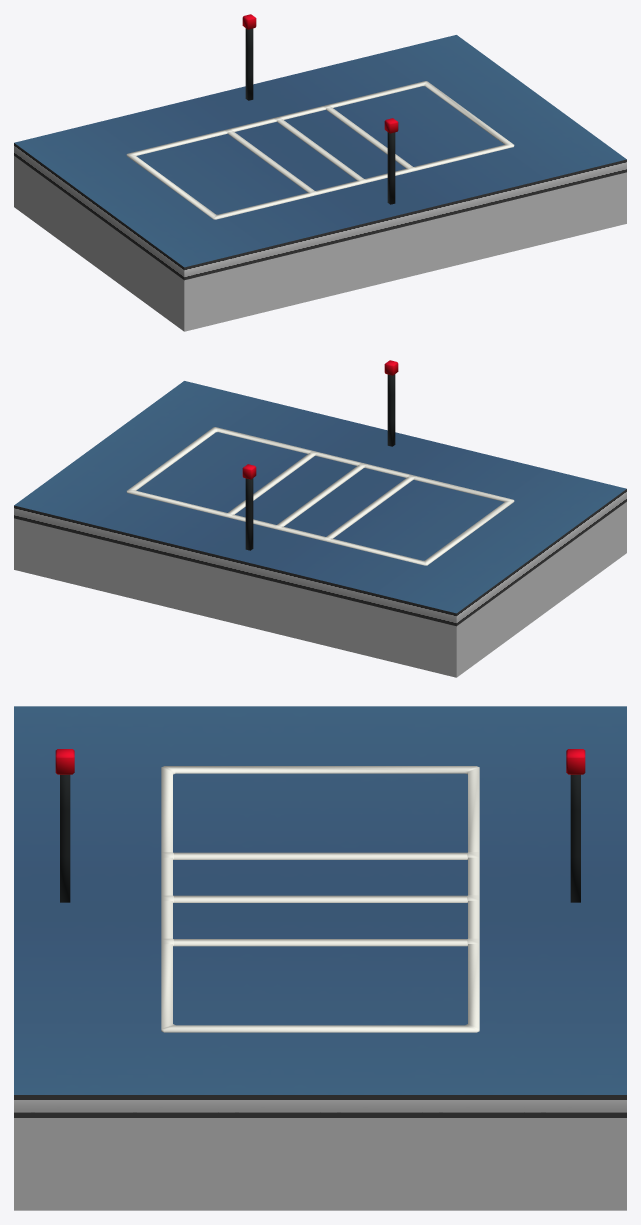
The model's file is court.fbx.
3 views of the same model, one above another, from view 1: azimuth 30°, elevation 25°; view 2: azimuth 150°, elevation 25°; view 3: azimuth 270°, elevation 25° (orthographic). The views are drawn at different scales.
Parts seen in each view (by area): view 1: court, ground, lines, poles; view 2: court, ground, lines, poles; view 3: court, ground, lines, poles.
Part boxes in pixels (x1,y1,x2,y2): court: (14, 35, 626, 280); ground: (14, 156, 626, 331); lines: (126, 81, 514, 219); poles: (242, 14, 398, 204); court: (14, 381, 626, 626); ground: (14, 502, 626, 677); lines: (126, 427, 514, 565); poles: (242, 360, 398, 550); court: (14, 706, 626, 1117); ground: (14, 1118, 626, 1210); lines: (161, 766, 479, 1032); poles: (55, 749, 585, 902).
Size of the model in its own units: 1800 by 571 by 1200.
